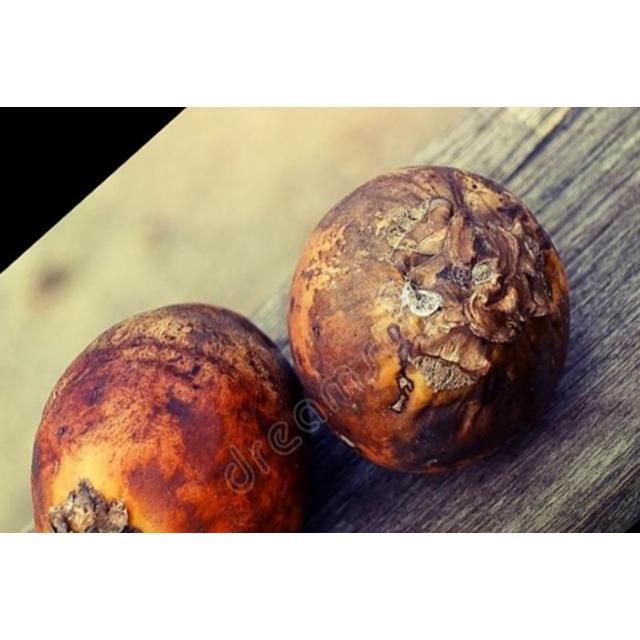damaged: (286, 165, 571, 479), (28, 303, 310, 533)
